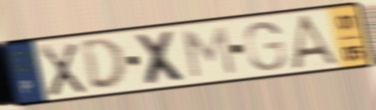A: (289, 12, 345, 71)
D: (79, 35, 129, 92)
G: (243, 20, 289, 73)
M: (180, 24, 238, 80)
X: (131, 29, 192, 88), (37, 41, 89, 99)
